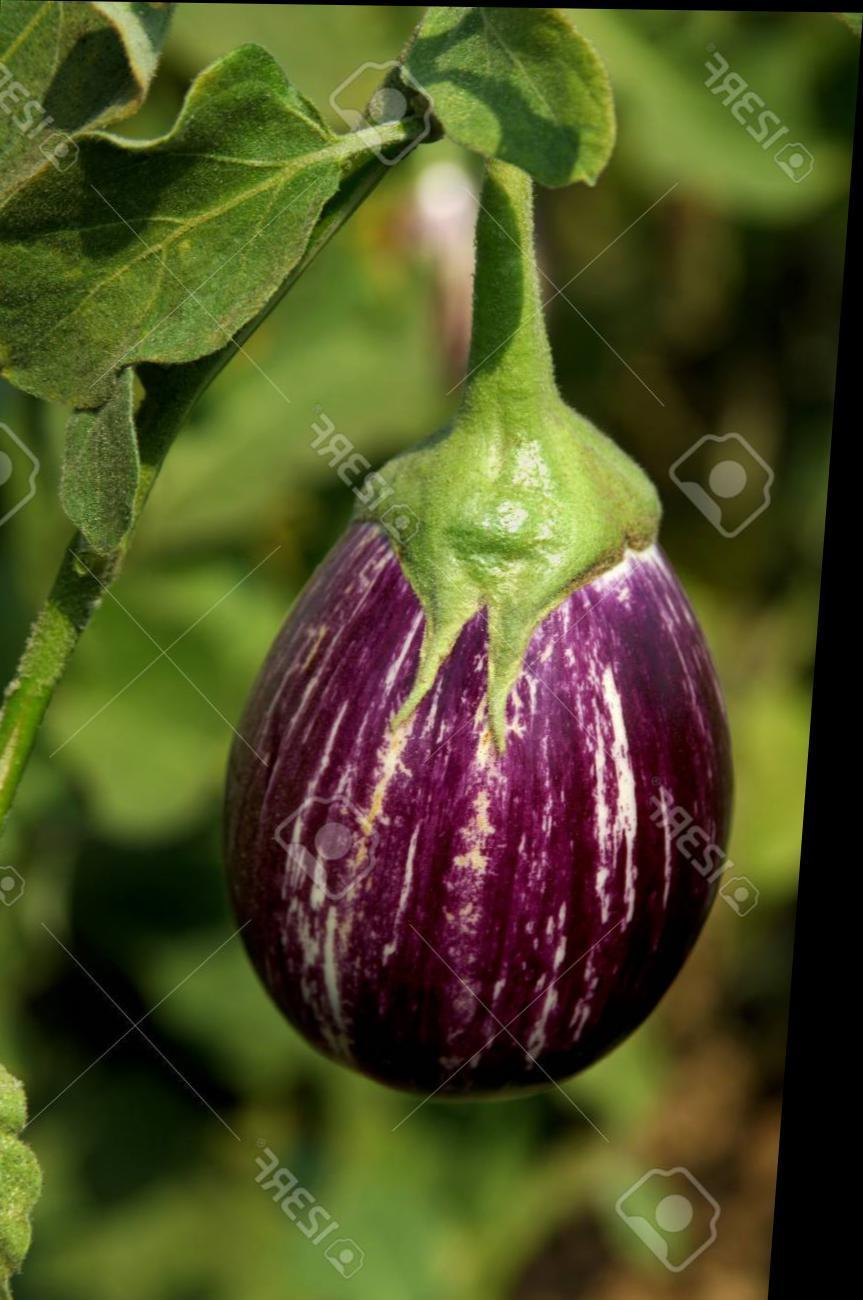eggplant: (184, 195, 797, 1106)
